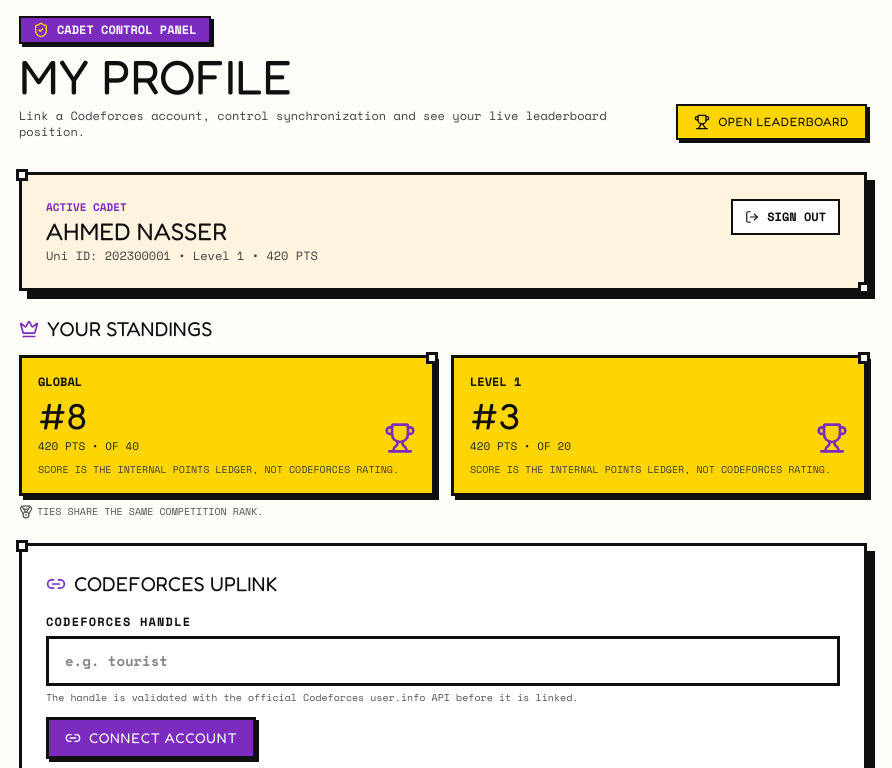
Test case: ProfilePage › surfaces an invalid handle error from the API
Type "missing" into the field with placeholder "e.g. tourist" at (443, 661), box left=46, top=636, right=840, bottom=686
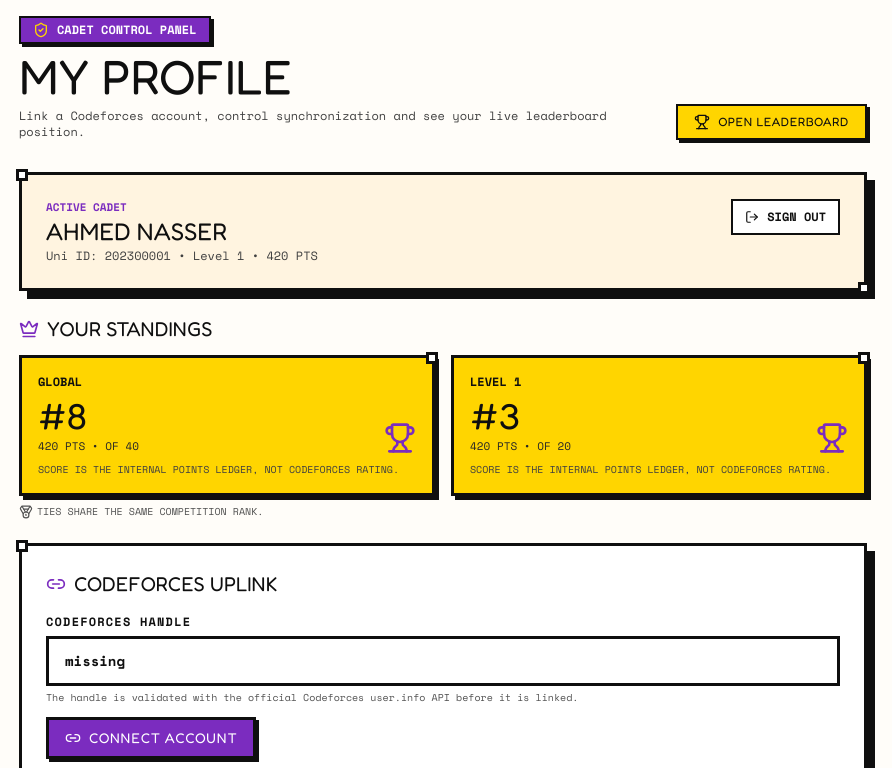
Click the button "Connect account" at (151, 738), box left=46, top=717, right=256, bottom=759
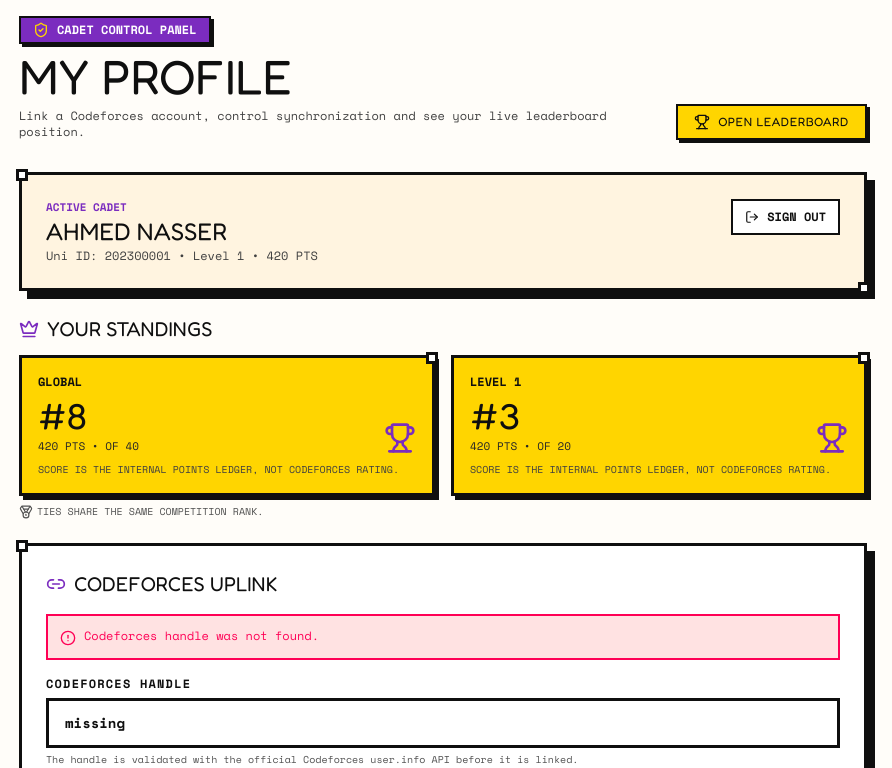
Check: the message reads "Codeforces handle was not found.", box left=84, top=627, right=319, bottom=644
